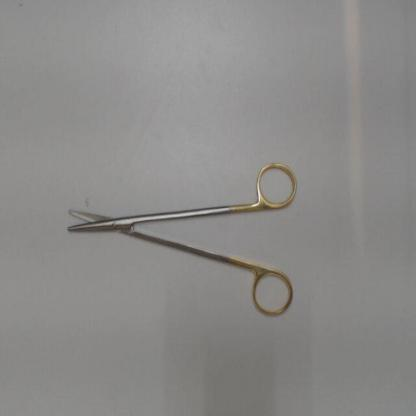7 Metzenbaum Scissors: (63, 154, 300, 324)
